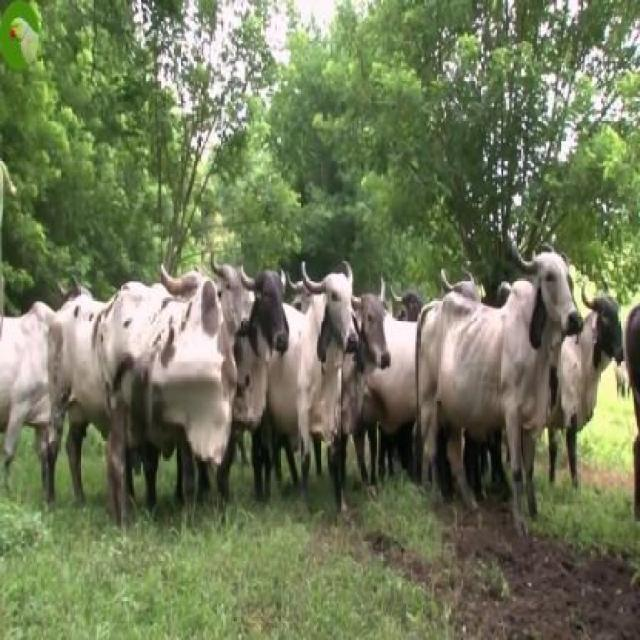Cow: (416, 250, 584, 538), (286, 257, 359, 494), (229, 264, 288, 504)
